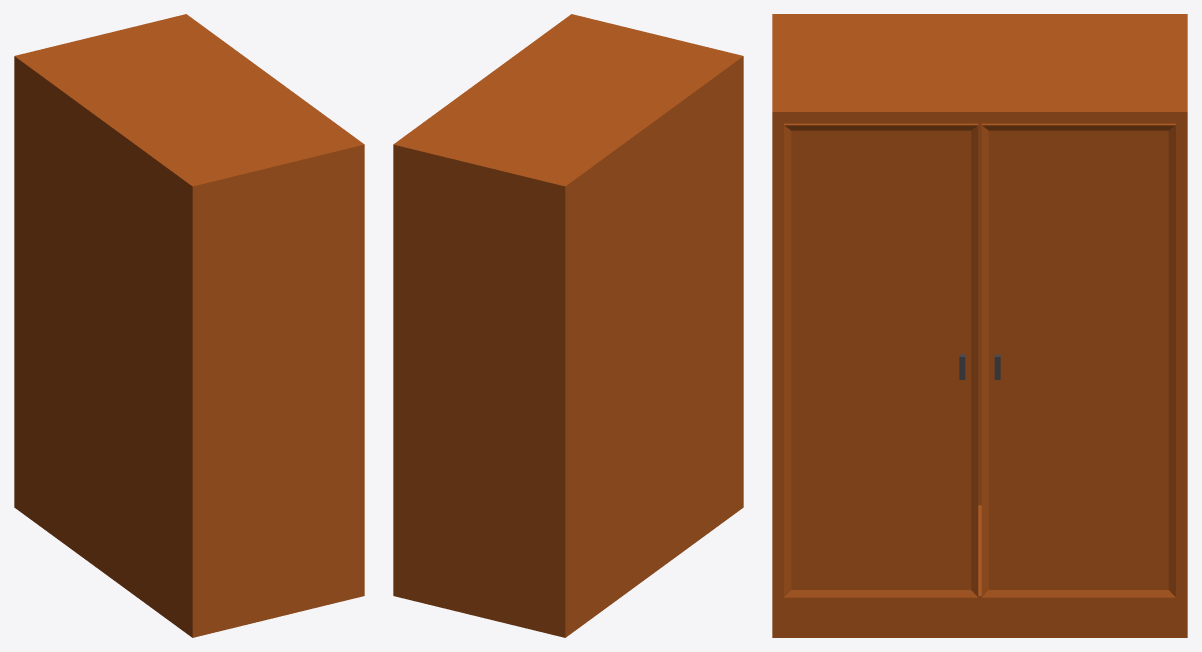
The model's file is Armario.fbx.
The picture shows the model from 3 angles, left to right: view 1: azimuth 30°, elevation 25°; view 2: azimuth 150°, elevation 25°; view 3: azimuth 270°, elevation 25°; orthographic projection. The views are drawn at different scales.
Visible parts, largest first — view 1: Armario; view 2: Armario; view 3: PuertaArmario, Armario.
Boxes of the visible parts, x1,y1,x2,y2 form: Armario: (14,14,364,637); Armario: (393,14,743,637); PuertaArmario: (784,123,1175,597); Armario: (772,14,1187,637).
Size of the model in its own units: 0.9083 by 2.2 by 1.58.
